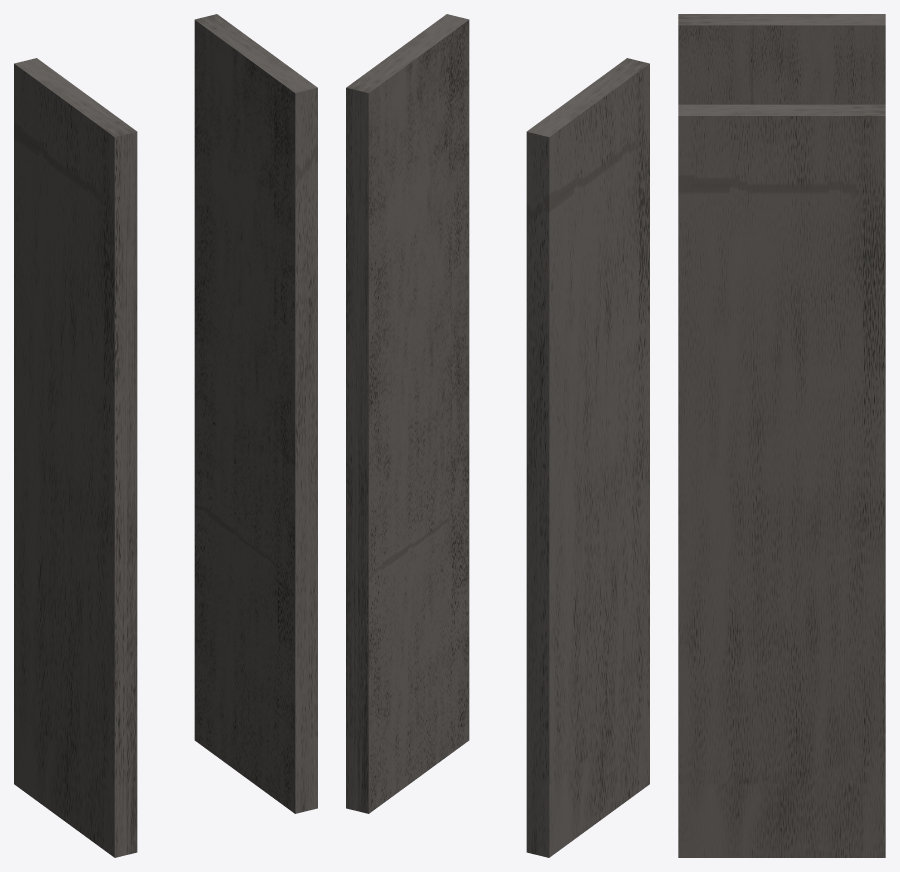
Rendered from SM_cemblockfront.fbx.
The picture shows the model from 3 angles, left to right: view 1: azimuth 30°, elevation 25°; view 2: azimuth 150°, elevation 25°; view 3: azimuth 270°, elevation 25°; orthographic projection. The views are drawn at different scales.
Visible parts, largest first — view 1: SM_cemblock_talkFL; view 2: SM_cemblock_talkFL; view 3: SM_cemblock_talkFL.
Part boxes in pixels (box(x1,y1,x2,y2)): SM_cemblock_talkFL: box(14, 14, 317, 857); SM_cemblock_talkFL: box(346, 14, 649, 857); SM_cemblock_talkFL: box(678, 14, 885, 857).
Size of the model in its own units: 371 by 1259 by 319.
